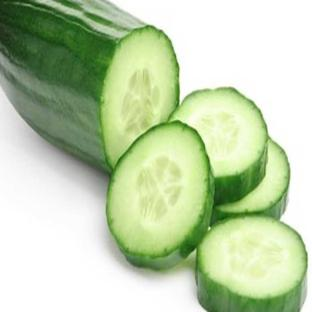Cucumber: (107, 122, 214, 268), (171, 88, 267, 204), (197, 217, 307, 311), (212, 139, 290, 223)
